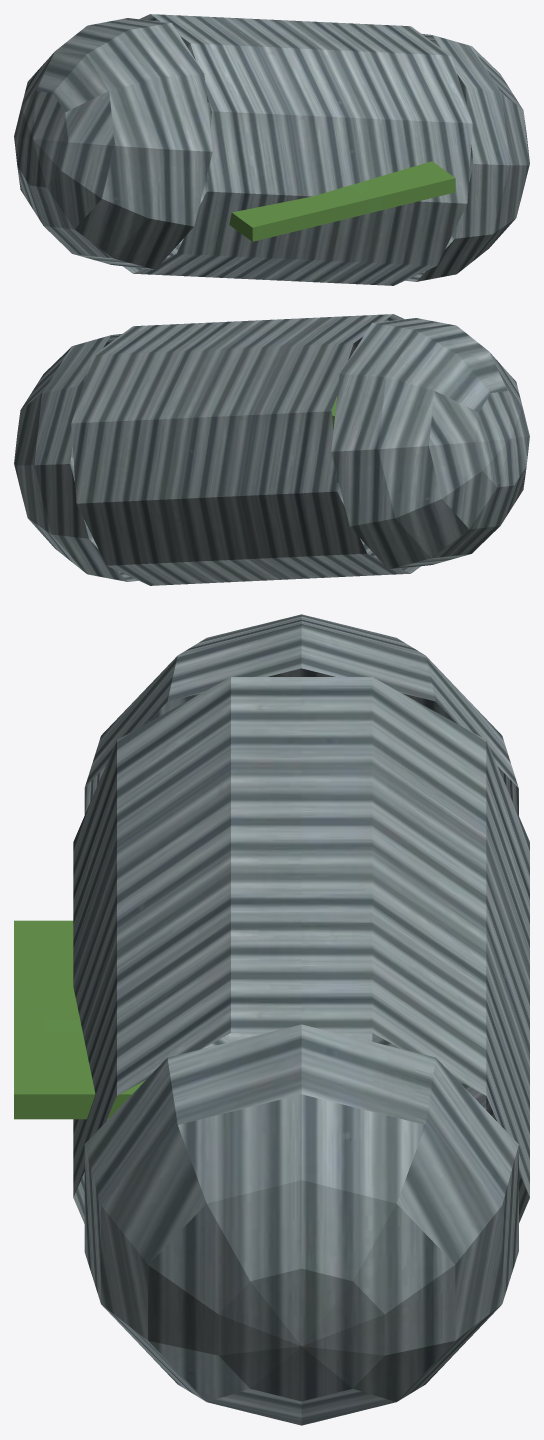
File: seed_pod_01.glb
3 renders of one model, top to bottom at view 1: azimuth 30°, elevation 25°; view 2: azimuth 150°, elevation 25°; view 3: azimuth 270°, elevation 25°, orthographic. The views are drawn at different scales.
Parts seen in each view (by area): view 1: seed_pod_01; view 2: seed_pod_01; view 3: seed_pod_01.
Boxes of the visible parts, box(x1,y1,x2,y2) form: seed_pod_01: box(14, 14, 529, 285); seed_pod_01: box(14, 314, 529, 585); seed_pod_01: box(14, 614, 529, 1425).
Size of the model in its own units: 2.15 by 1.31 by 1.13.
Materials: 2 (2 with a texture image).
